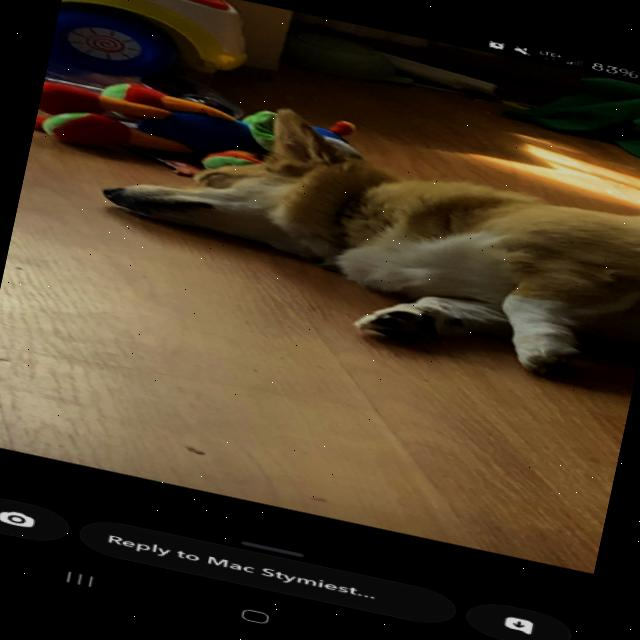corgi_dog: (72, 63, 416, 291)
